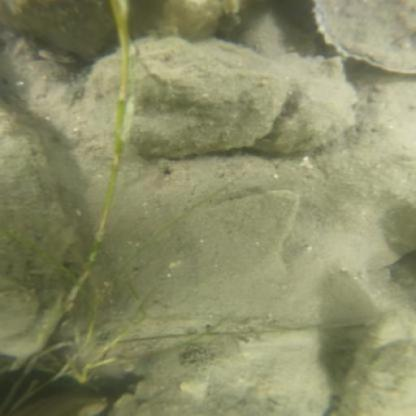Oyster- Indeterminate: (340, 324, 416, 416)
Oyster-Closed: (105, 330, 330, 416), (125, 35, 283, 155), (1, 114, 75, 359), (260, 49, 354, 154), (11, 0, 116, 56)
